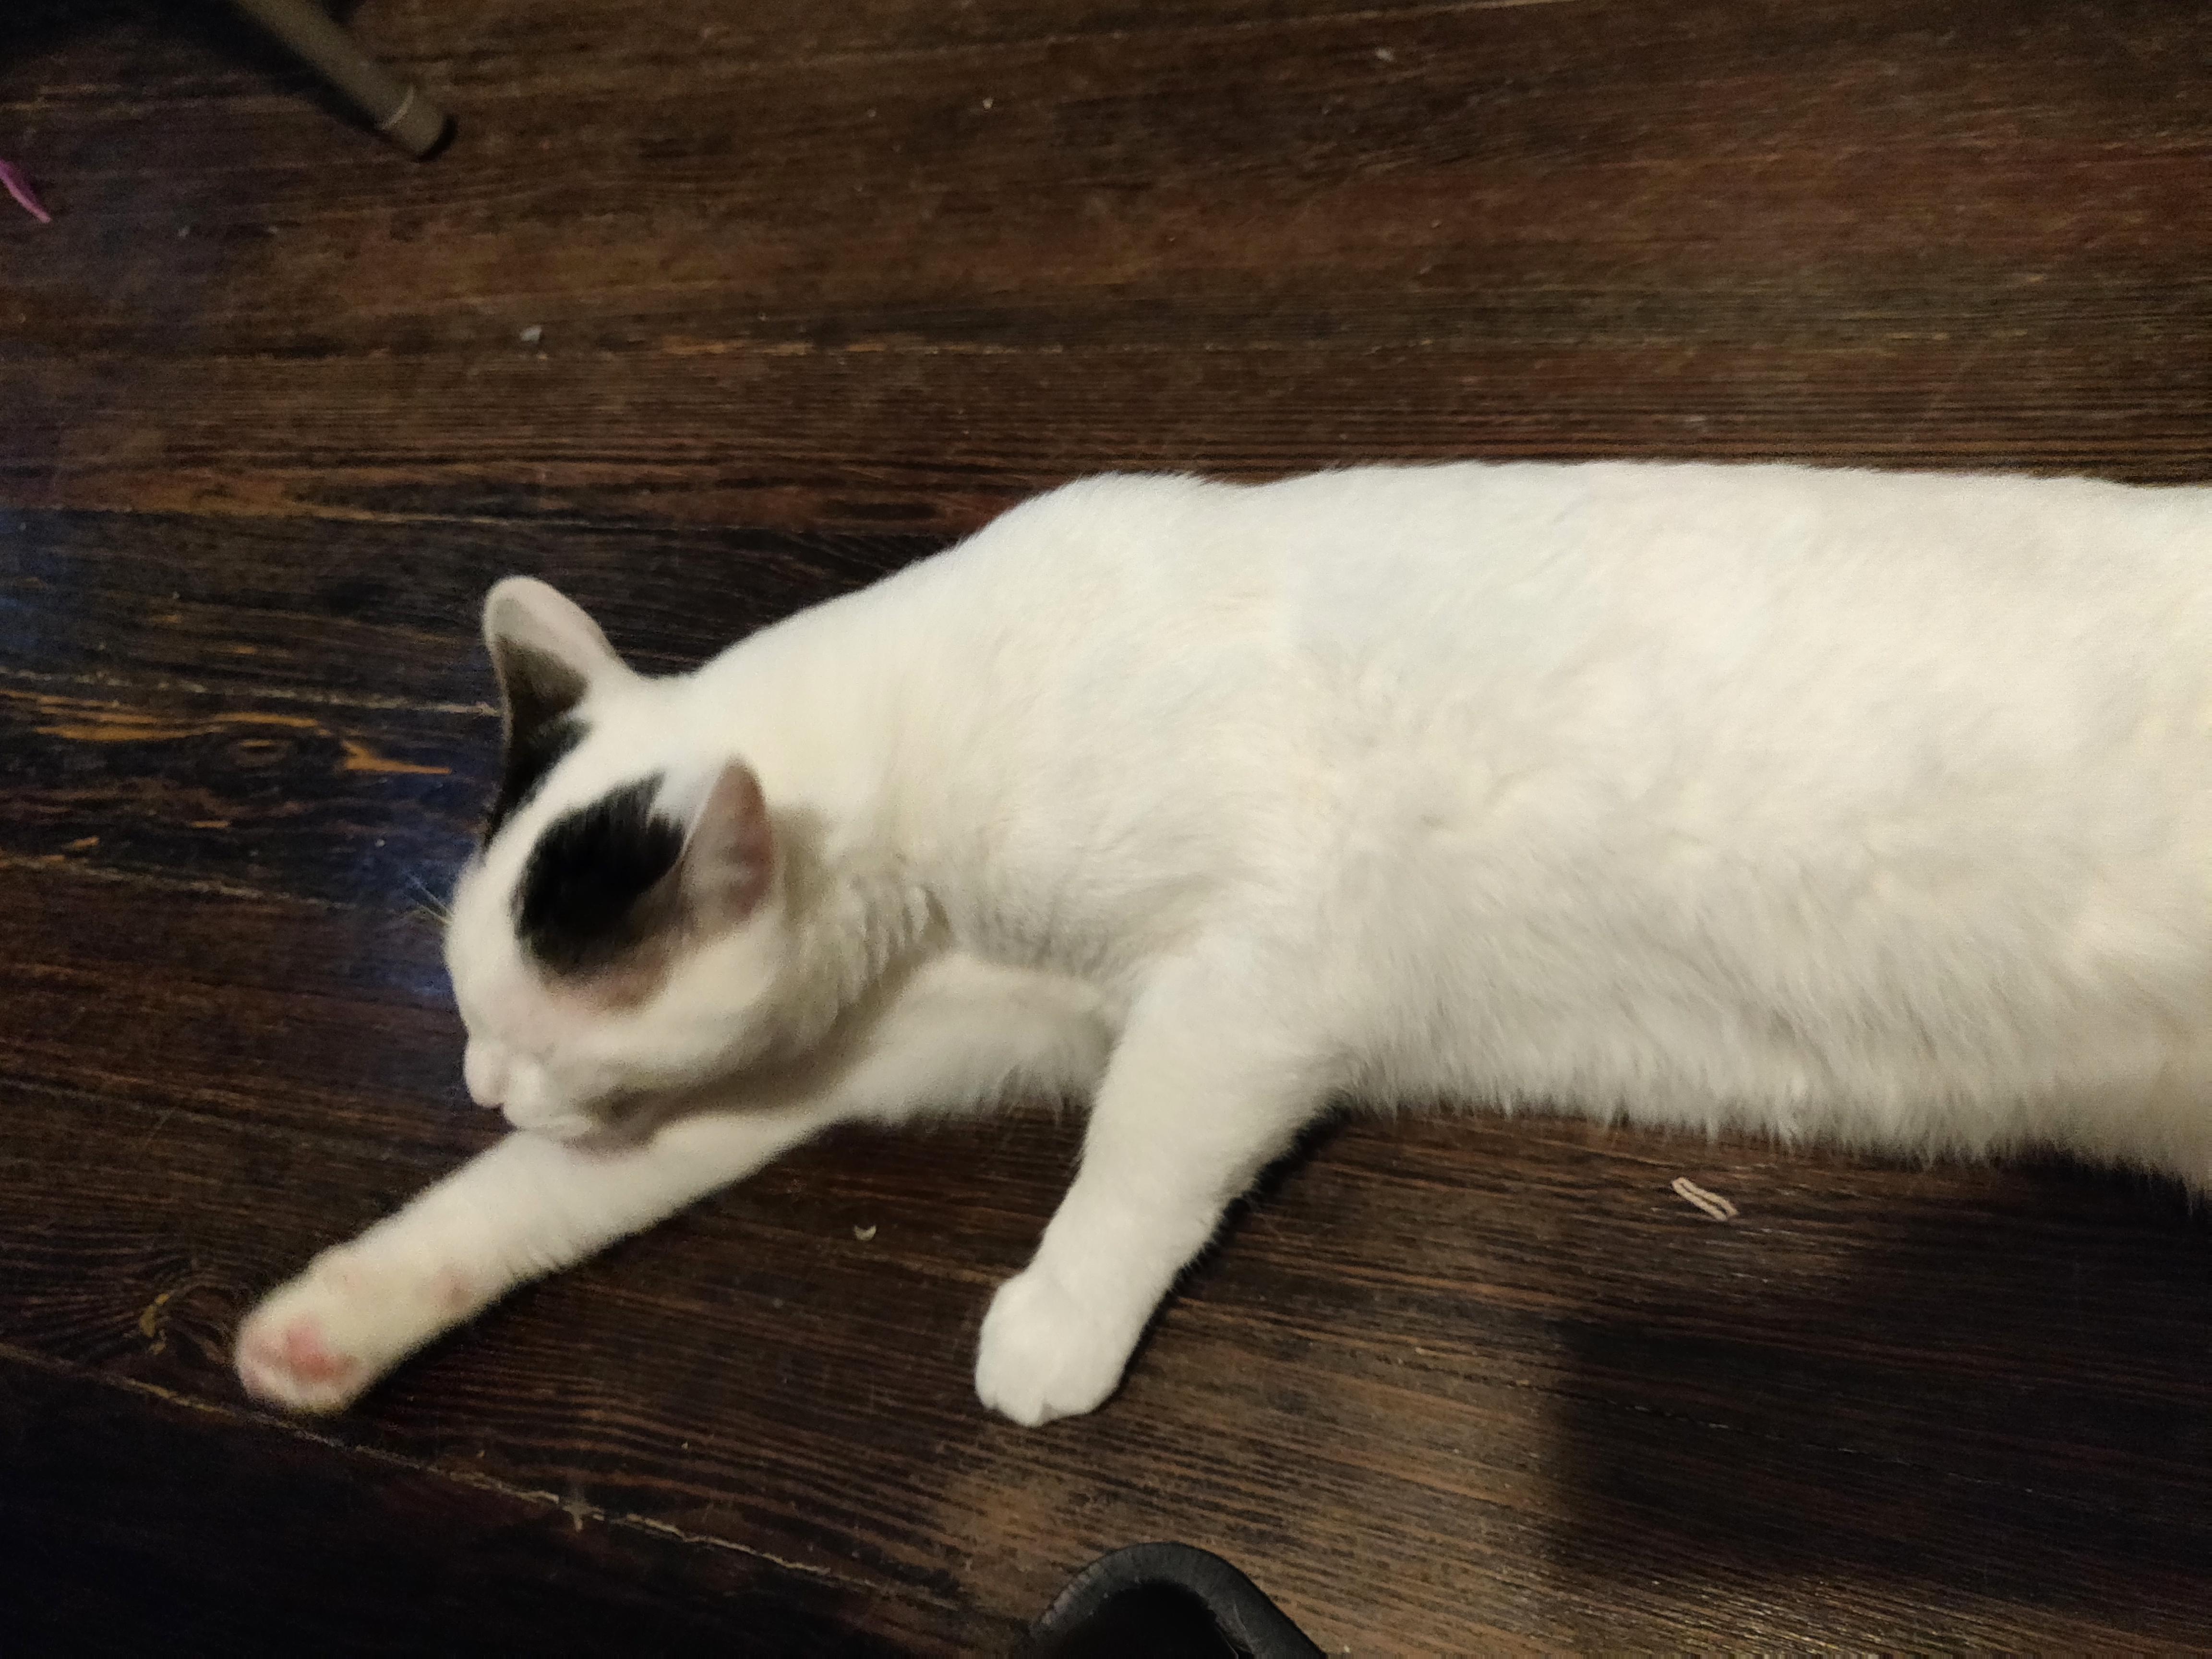cat: (209, 465, 2199, 1412)
